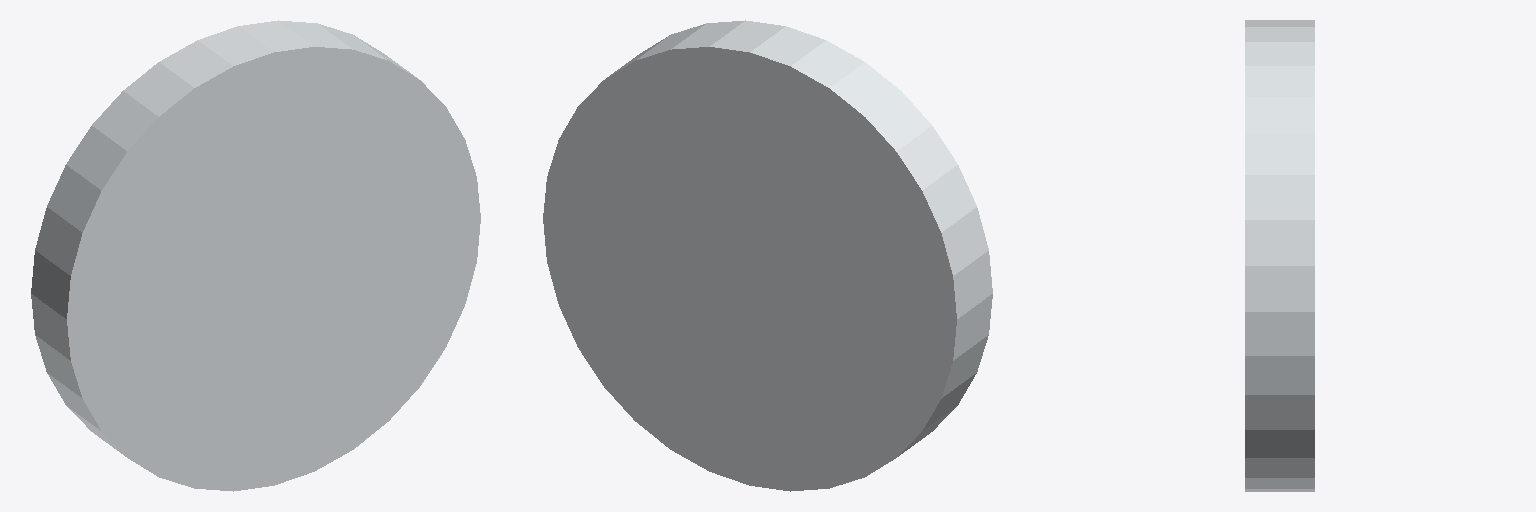
URDF robot description (eSeries_UR16e_15012020_URDF_ONLY):
<?xml version="1.0" encoding="utf-8"?>
<!-- This URDF was automatically created by SolidWorks to URDF Exporter! Originally created by [author] ([email redacted]) 
     Commit Version: 1.5.1-0-g916b5db  Build Version: 1.5.7152.31018
     For more information, please see http://wiki.ros.org/sw_urdf_exporter -->
<robot
  name="eSeries_UR16e_15012020_URDF_ONLY">
  <link
    name="base_link">
    <inertial>
      <origin
        xyz="0 0 0"
        rpy="0 0 0" />
      <mass
        value="3.3528" />
      <inertia
        ixx="0.0088179"
        ixy="-2.2263E-06"
        ixz="7.1489E-06"
        iyy="0.0098684"
        iyz="0.00021615"
        izz="0.01352" />
    </inertial>
    <visual>
      <origin
        xyz="0 0 0"
        rpy="0 0 0" />
      <geometry>
        <mesh
          filename="meshes/base_link_fix.STL" />
      </geometry>
      <material
        name="">
        <color
          rgba="0.89804 0.91765 0.92941 1" />
      </material>
    </visual>
    <collision>
      <origin
        xyz="0 0 0"
        rpy="0 0 0" />
      <geometry>
        <mesh
          filename="meshes/base_link_fix.STL" />
      </geometry>
    </collision>
  </link>
  <link
    name="Shoulder1">
    <inertial>
      <origin
        xyz="-8.131E-07 0.082255 0.013094"
        rpy="0 0 0" />
      <mass
        value="7.369" />
      <inertia
        ixx="0.037903"
        ixy="-3.567E-07"
        ixz="6.5164E-07"
        iyy="0.032113"
        iyz="-0.00061449"
        izz="0.033598" />
    </inertial>
    <visual>
      <origin
        xyz="0 0 0"
        rpy="0 0 0" />
      <geometry>
        <mesh
          filename="meshes/Link1.STL" />
      </geometry>
      <material
        name="">
        <color
          rgba="0.89804 0.91765 0.92941 1" />
      </material>
    </visual>
    <collision>
      <origin
        xyz="0 0 0"
        rpy="0 0 0" />
      <geometry>
        <mesh
          filename="meshes/Link1.STL" />
      </geometry>
    </collision>
  </link>
  <joint
    name="J1"
    type="revolute">
    <origin
      xyz="0 0 0.0993"
      rpy="1.5708 0 0" />
    <parent
      link="base_link" />
    <child
      link="Shoulder1" />
    <axis
      xyz="0 1 0" />
    <limit
      lower="-6.28"
      upper="6.28"
      effort="0"
      velocity="2.094" />
    <dynamics
      damping="1.5"
      friction="1" />
    <safety_controller
      soft_upper="6"
      soft_lower="-6"
      k_velocity="2.094" />
  </joint>
  <link
    name="Shoulder2">
    <inertial>
      <origin
        xyz="-4.978E-08 0.18974 0.081646"
        rpy="0 0 0" />
      <mass
        value="10.45" />
      <inertia
        ixx="0.77144"
        ixy="-6.1908E-06"
        ixz="2.1756E-07"
        iyy="0.055717"
        iyz="0.0015624"
        izz="0.76424" />
    </inertial>
    <visual>
      <origin
        xyz="0 0 0"
        rpy="0 0 0" />
      <geometry>
        <mesh
          filename="meshes/Link2.STL" />
      </geometry>
      <material
        name="">
        <color
          rgba="0.89804 0.91765 0.92941 1" />
      </material>
    </visual>
    <collision>
      <origin
        xyz="0 0 0"
        rpy="0 0 0" />
      <geometry>
        <mesh
          filename="meshes/Link2.STL" />
      </geometry>
    </collision>
  </link>
  <joint
    name="J2"
    type="revolute">
    <origin
      xyz="0 0.0814 0.0946"
      rpy="0 0 1.5708" />
    <parent
      link="Shoulder1" />
    <child
      link="Shoulder2" />
    <axis
      xyz="0 0 1" />
    <limit
      lower="-6.28"
      upper="6.28"
      effort="0"
      velocity="2.094" />
    <dynamics
      damping="1.5"
      friction="1" />
    <safety_controller
      soft_upper="6"
      soft_lower="-6"
      k_velocity="2.094" />
  </joint>
  <link
    name="Elbow">
    <inertial>
      <origin
        xyz="-1.5433E-05 0.16483 -0.048444"
        rpy="0 0 0" />
      <mass
        value="4.321" />
      <inertia
        ixx="0.18067"
        ixy="-1.5315E-05"
        ixz="-4.3945E-06"
        iyy="0.013863"
        iyz="0.0099125"
        izz="0.1784" />
    </inertial>
    <visual>
      <origin
        xyz="0 0 0"
        rpy="0 0 0" />
      <geometry>
        <mesh
          filename="meshes/Link3.STL" />
      </geometry>
      <material
        name="">
        <color
          rgba="0.89804 0.91765 0.92941 1" />
      </material>
    </visual>
    <collision>
      <origin
        xyz="0 0 0"
        rpy="0 0 0" />
      <geometry>
        <mesh
          filename="meshes/Link3.STL" />
      </geometry>
    </collision>
  </link>
  <joint
    name="J3"
    type="revolute">
    <origin
      xyz="0 0.4784 0"
      rpy="0 0 0" />
    <parent
      link="Shoulder2" />
    <child
      link="Elbow" />
    <axis
      xyz="0 0 1" />
    <limit
      lower="-6.28"
      upper="6.28"
      effort="0"
      velocity="3.141" />
    <dynamics
      damping="1.5"
      friction="1" />
    <safety_controller
      soft_upper="6"
      soft_lower="-6"
      k_velocity="3.141" />
  </joint>
  <link
    name="Wrist1">
    <inertial>
      <origin
        xyz="6.1842E-06 0.0015493 0.063631"
        rpy="0 0 0" />
      <mass
        value="2.180" />
      <inertia
        ixx="0.0049204"
        ixy="6.4665E-08"
        ixz="1.101E-07"
        iyy="0.0040693"
        iyz="-0.00012544"
        izz="0.0035835" />
    </inertial>
    <visual>
      <origin
        xyz="0 0 0"
        rpy="0 0 0" />
      <geometry>
        <mesh
          filename="meshes/Link4.STL" />
      </geometry>
      <material
        name="">
        <color
          rgba="0.89804 0.91765 0.92941 1" />
      </material>
    </visual>
    <collision>
      <origin
        xyz="0 0 0"
        rpy="0 0 0" />
      <geometry>
        <mesh
          filename="meshes/Link4.STL" />
      </geometry>
    </collision>
  </link>
  <joint
    name="J4"
    type="revolute">
    <origin
      xyz="0 0.36 0"
      rpy="0 0 1.5707963267949" />
    <parent
      link="Elbow" />
    <child
      link="Wrist1" />
    <axis
      xyz="0 0 1" />
    <limit
      lower="-6.28"
      upper="6.28"
      effort="0"
      velocity="3.141" />
    <dynamics
      damping="1"
      friction="1" />
    <safety_controller
      soft_upper="6"
      soft_lower="-6"
      k_velocity="3.141" />
  </joint>
  <link
    name="Wrist2">
    <inertial>
      <origin
        xyz="1.976E-07 0.1069 0.0017385"
        rpy="0 0 0" />
      <mass
        value="2.033" />
      <inertia
        ixx="0.0038851"
        ixy="-6.9243E-08"
        ixz="-3.5564E-08"
        iyy="0.0033105"
        iyz="-0.00010011"
        izz="0.0030368" />
    </inertial>
    <visual>
      <origin
        xyz="0 0 0"
        rpy="0 0 0" />
      <geometry>
        <mesh
          filename="meshes/Link5.STL" />
      </geometry>
      <material
        name="">
        <color
          rgba="0.89804 0.91765 0.92941 1" />
      </material>
    </visual>
    <collision>
      <origin
        xyz="0 0 0"
        rpy="0 0 0" />
      <geometry>
        <mesh
          filename="meshes/Link5.STL" />
      </geometry>
    </collision>
  </link>
  <joint
    name="J5"
    type="revolute">
    <origin
      xyz="0 0.00334216106109189 0.0795500000000001"
      rpy="0 0 0" />
    <parent
      link="Wrist1" />
    <child
      link="Wrist2" />
    <axis
      xyz="0 1 0" />
    <limit
      lower="-1.57"
      upper="1.57"
      effort="0"
      velocity="3.141" />
    <dynamics
      damping="1.5"
      friction="1" />
    <safety_controller
      soft_upper="6"
      soft_lower="-6"
      k_velocity="3.141" />
  </joint>
  <link
    name="Wrist3">
    <inertial>
      <origin
        xyz="0 0 0"
        rpy="0 0 0" />
      <mass
        value="0.907" />
      <inertia
        ixx="0.00071366"
        ixy="-4.1E-11"
        ixz="1.3847E-11"
        iyy="0.00071623"
        iyz="1.3964E-07"
        izz="0.0009382" />
    </inertial>
    <visual>
      <origin
        xyz="0 0 0"
        rpy="0 0 0" />
      <geometry>
        <cylinder radius="0.01" length="0.003"/>
        <!-- <mesh filename="meshes/Link5_fix.STL" /> -->
      </geometry>
      <material
        name="">
        <color
          rgba="0.89804 0.91765 0.92941 1" />
      </material>
    </visual>
    <collision>
      <origin
        xyz="0 0 0"
        rpy="0 0 0" />
      <geometry>
        <cylinder radius="0.01" length="0.003"/>
        <!-- <mesh filename="meshes/Link5_fix.STL" /> -->
      </geometry>
    </collision>
  </link>
  <joint
    name="J6"
    type="revolute">
    <origin
      xyz="0 0 0"
      rpy="0 0 0" />
    <parent
      link="Wrist2" />
    <child
      link="Wrist3" />
    <axis
      xyz="0 0 1" />
    <limit
      lower="-6.28"
      upper="6.28"
      effort="0"
      velocity="3.141" />
    <dynamics
      damping="1.5"
      friction="1" />
    <safety_controller
      soft_upper="6"
      soft_lower="-6"
      k_velocity="3.141" />
  </joint>
  <link
    name="EndEffector">
    <inertial>
      <origin
        xyz="0 0.1 0"
        rpy="0 0 0" />
      <mass
        value="0.907" />
      <inertia
        ixx="0.00071366"
        ixy="-4.1E-11"
        ixz="1.3847E-11"
        iyy="0.00071623"
        iyz="1.3964E-07"
        izz="0.0009382" />
    </inertial>
    <visual>
      <origin
        xyz="0 0 0"
        rpy="0 0 0" />
      <geometry>
        <cylinder radius="0.01" length="0.003"/>
      </geometry>
      <material
        name="">
        <color
          rgba="0.89804 0.91765 0.92941 1" />
      </material>
    </visual>
    <collision>
      <origin
        xyz="0 0 0"
        rpy="0 0 0" />
      <geometry>
        <cylinder radius="0.01" length="0.003"/>
      </geometry>
    </collision>
  </link>
  <joint
    name="JEndEffector"
    type="fixed">
    <origin
      xyz="0 0 0"
      rpy="0 0 0" />
    <parent
      link="Wrist3" />
    <child
      link="EndEffector" />
    <axis
      xyz="0 0 1" />
    <dynamics
      damping="1.5"
      friction="1" />
    <safety_controller
      soft_upper="6"
      soft_lower="-6"
      k_velocity="3.141" />
  </joint>
</robot>

--- Render facts (derived) ---
The picture shows the robot from 3 angles, left to right: view 1: azimuth 30°, elevation 25°; view 2: azimuth 150°, elevation 25°; view 3: azimuth 270°, elevation 25°; orthographic projection.
Model eSeries_UR16e_15012020_URDF_ONLY with 8 links and 7 joints (6 revolute, 1 fixed), rooted at base_link, posed all joints at 0.
Links seen in each view (by area): view 1: Wrist3; view 2: Wrist3; view 3: Wrist3.
Boxes of the visible links, left/top/right/bottom form: Wrist3: left=31, top=20, right=480, bottom=491; Wrist3: left=543, top=20, right=992, bottom=491; Wrist3: left=1245, top=20, right=1314, bottom=491.
Size in the robot's own frame: 0.02 by 0.003 by 0.02 metres.
Meshes: 6 distinct files referenced, 0 mesh visuals loaded (none loaded); not drawn: 6 (reference not matched to a file when rendering).